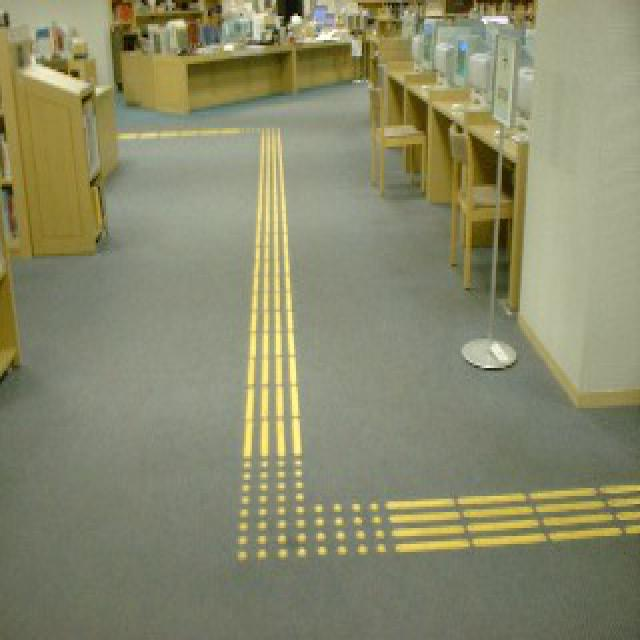tactile-guide-path: (244, 128, 302, 456), (386, 482, 639, 553), (238, 459, 386, 557)
